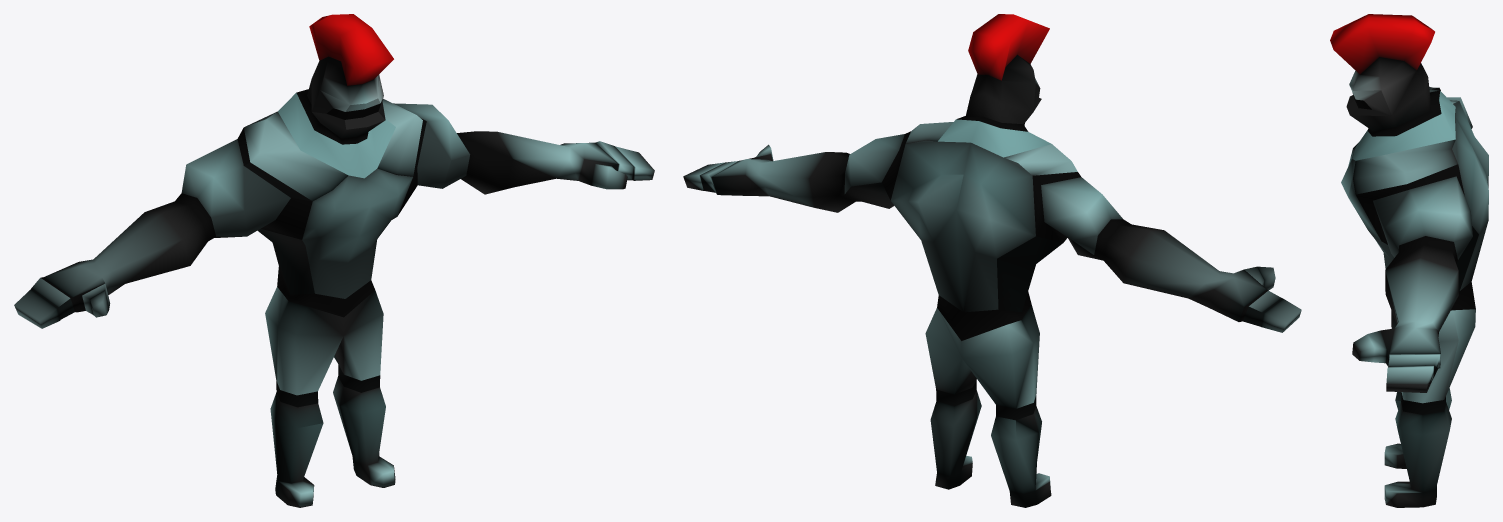
Rendered from Big Knight.fbx.
3 renders of one model, left to right at view 1: azimuth 30°, elevation 25°; view 2: azimuth 150°, elevation 25°; view 3: azimuth 270°, elevation 25°, orthographic. The views are drawn at different scales.
Visible parts, largest first — view 1: pasted__pasted__pCube8; view 2: pasted__pasted__pCube8; view 3: pasted__pasted__pCube8.
Boxes of the visible parts, bbox=[...] form: pasted__pasted__pCube8: bbox=[14, 14, 654, 507]; pasted__pasted__pCube8: bbox=[683, 14, 1301, 507]; pasted__pasted__pCube8: bbox=[1330, 14, 1488, 507].
Bounding box in the file's own units: 70.54 × 51.19 × 15.89.
